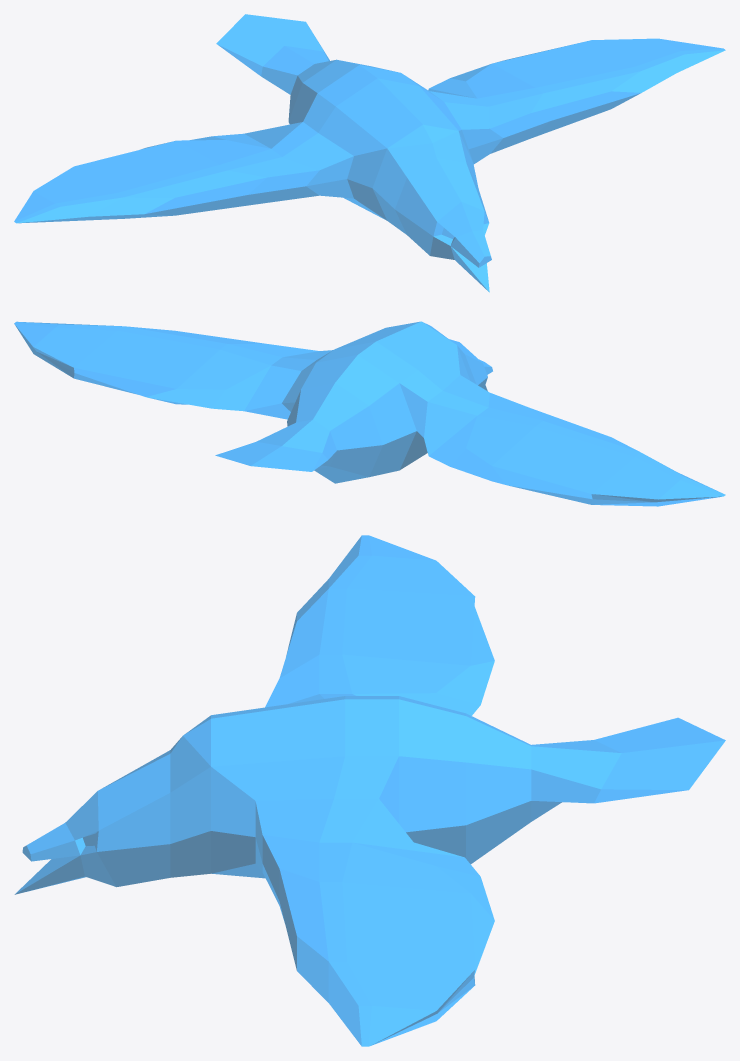
File: ice_bird_full.glb
3 views of the same model, one above another, from view 1: azimuth 30°, elevation 25°; view 2: azimuth 150°, elevation 25°; view 3: azimuth 270°, elevation 25° (orthographic). The views are drawn at different scales.
Parts seen in each view (by area): view 1: IceBird Full; view 2: IceBird Full; view 3: IceBird Full.
Boxes of the visible parts, x1,y1,x2,y2 form: IceBird Full: (14, 14, 725, 292); IceBird Full: (14, 321, 725, 506); IceBird Full: (14, 535, 725, 1046).
Bounding box in the file's own units: 12.02 × 2.14 × 7.07.
